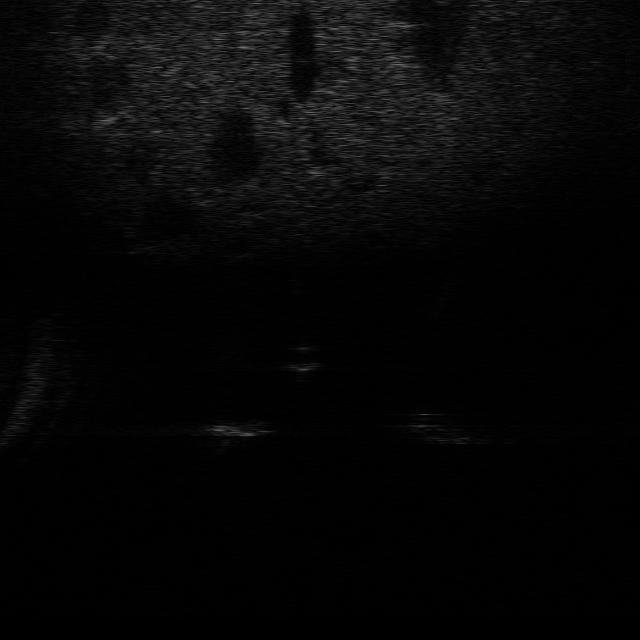ball: (275, 338, 327, 378)
square cage: (194, 415, 278, 452)
tyre: (398, 404, 480, 449)
